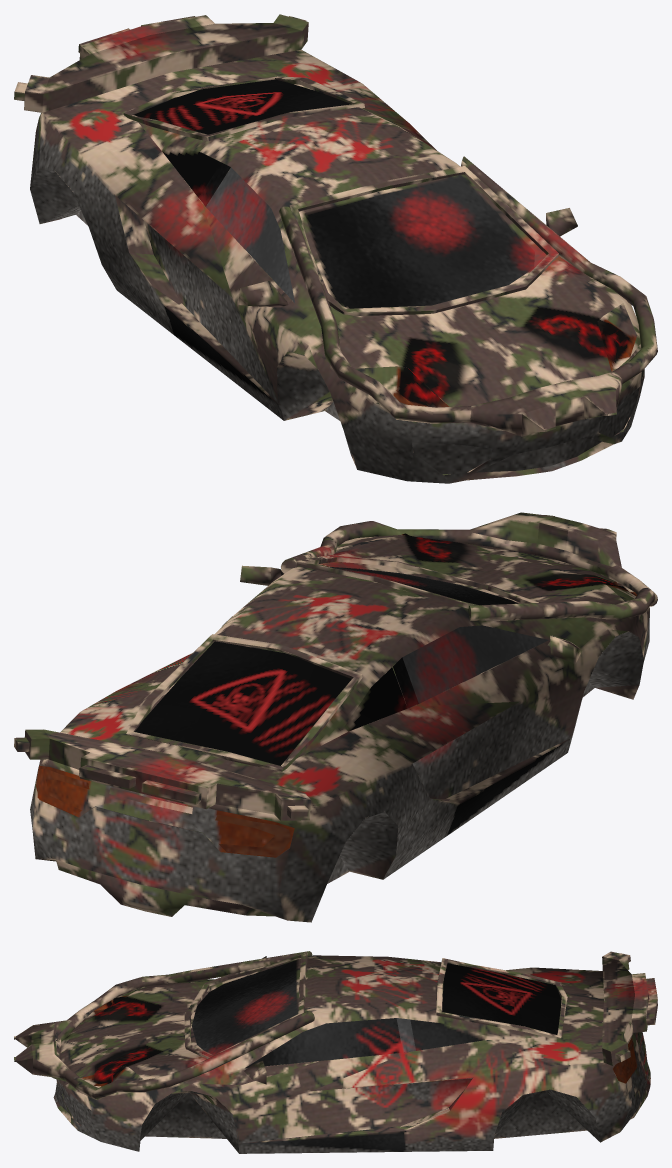
File: 10 fin.FBX
The picture shows the model from 3 angles, top to bottom: view 1: azimuth 30°, elevation 25°; view 2: azimuth 150°, elevation 25°; view 3: azimuth 270°, elevation 25°; orthographic projection. The views are drawn at different scales.
Parts seen in each view (by area): view 1: car10; view 2: car10; view 3: car10.
Boxes of the visible parts, box(x1,y1,x2,y2) form: car10: box(14, 14, 657, 483); car10: box(14, 512, 657, 922); car10: box(14, 951, 657, 1153).
Bounding box in the file's own units: 15.41 × 7.78 × 35.66.
1 material, 1 textured.
